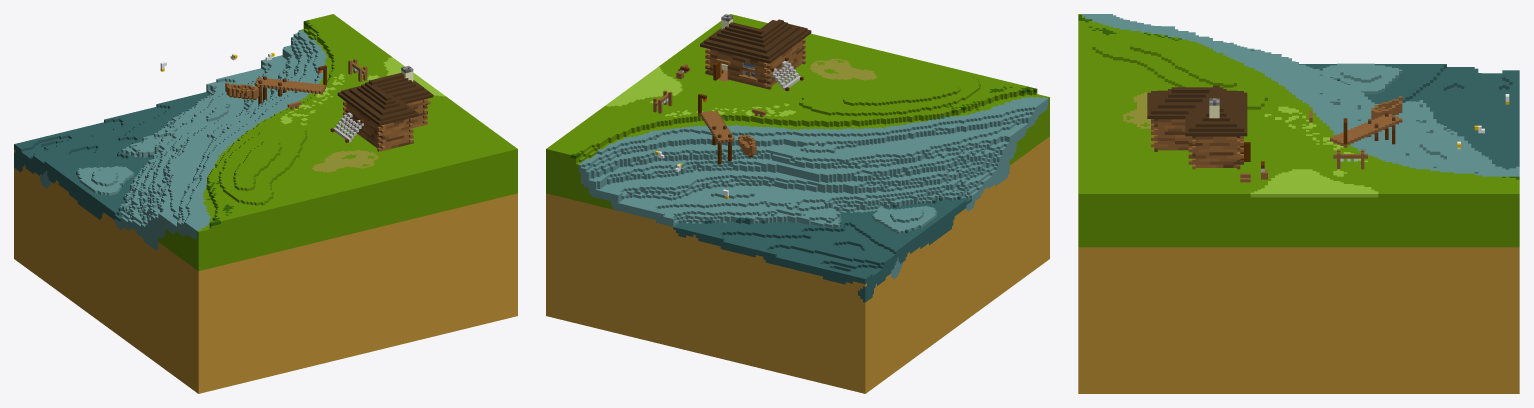
The picture shows the model from 3 angles, left to right: view 1: azimuth 30°, elevation 25°; view 2: azimuth 150°, elevation 25°; view 3: azimuth 270°, elevation 25°; orthographic projection. The views are drawn at different scales.
Visible parts, largest first — view 1: 4C; view 2: 4C; view 3: 4C.
Part boxes in pixels (left/top/right/bottom): 4C: left=14, top=14, right=517, bottom=393; 4C: left=546, top=14, right=1049, bottom=393; 4C: left=1078, top=14, right=1519, bottom=393.
Size of the model in its own units: 12.8 by 8.4 by 12.8.
Materials: 2 (1 with a texture image).
